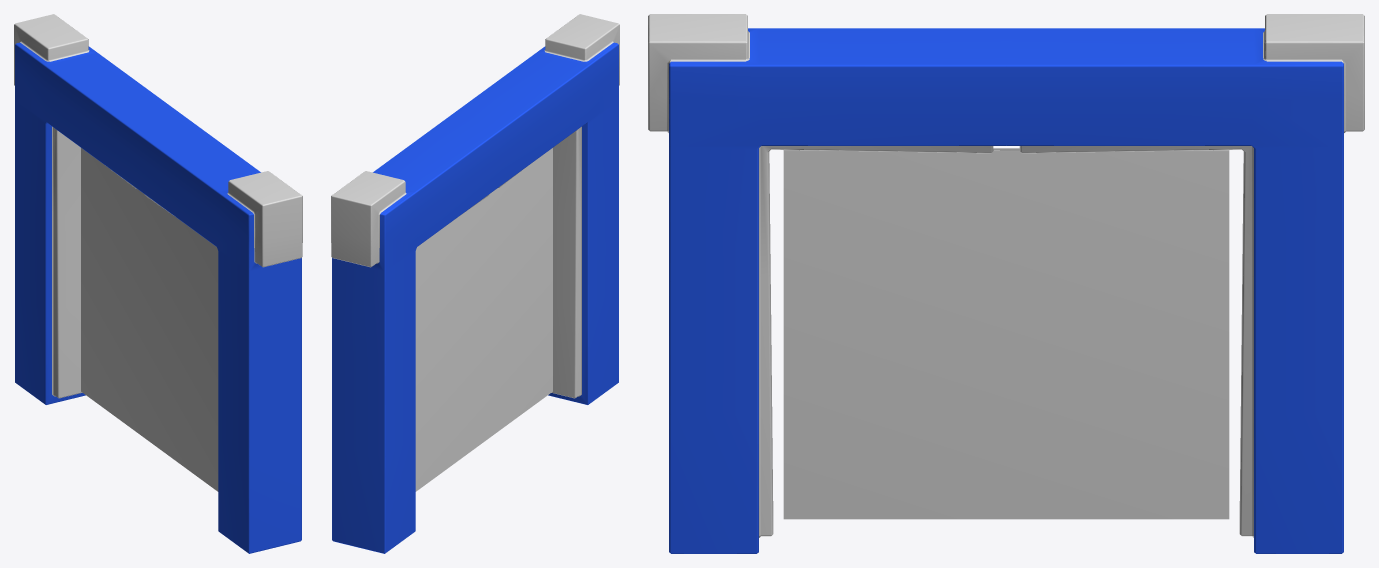
File: Big_Enemy01.fbx
3 renders of one model, left to right at view 1: azimuth 30°, elevation 25°; view 2: azimuth 150°, elevation 25°; view 3: azimuth 270°, elevation 25°, orthographic. The views are drawn at different scales.
Parts seen in each view (by area): view 1: Enemy_Big01; view 2: Enemy_Big01; view 3: Enemy_Big01.
Part boxes in pixels (x1,y1,x2,y2): Enemy_Big01: (14,14,302,553); Enemy_Big01: (331,14,619,553); Enemy_Big01: (648,14,1364,553).
Size of what is drawn, in the model's own units: 40 by 249 by 319.
